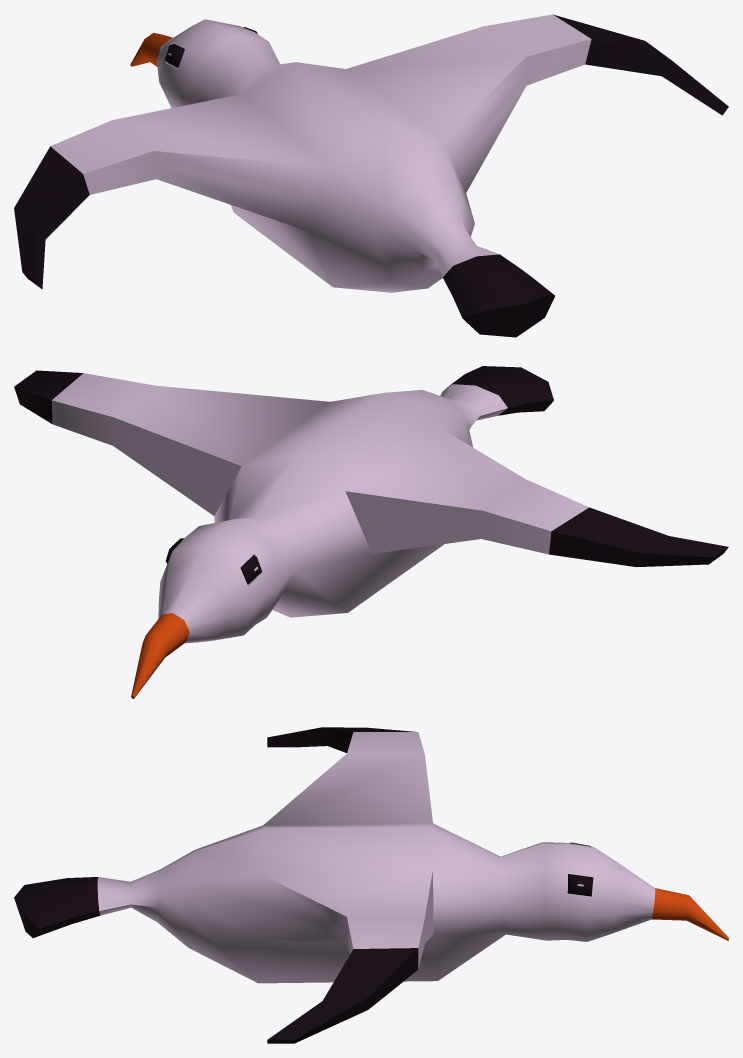
The model's file is oiseau.obj.
The picture shows the model from 3 angles, top to bottom: view 1: azimuth 30°, elevation 25°; view 2: azimuth 150°, elevation 25°; view 3: azimuth 270°, elevation 25°; orthographic projection. The views are drawn at different scales.
Parts seen in each view (by area): view 1: Cylinder; view 2: Cylinder; view 3: Cylinder.
Part boxes in pixels (<box>): Cylinder: <box>14,14,728,337</box>; Cylinder: <box>14,366,728,698</box>; Cylinder: <box>14,727,728,1043</box>.
Bounding box in the file's own units: 22.95 × 5.11 × 22.44.
